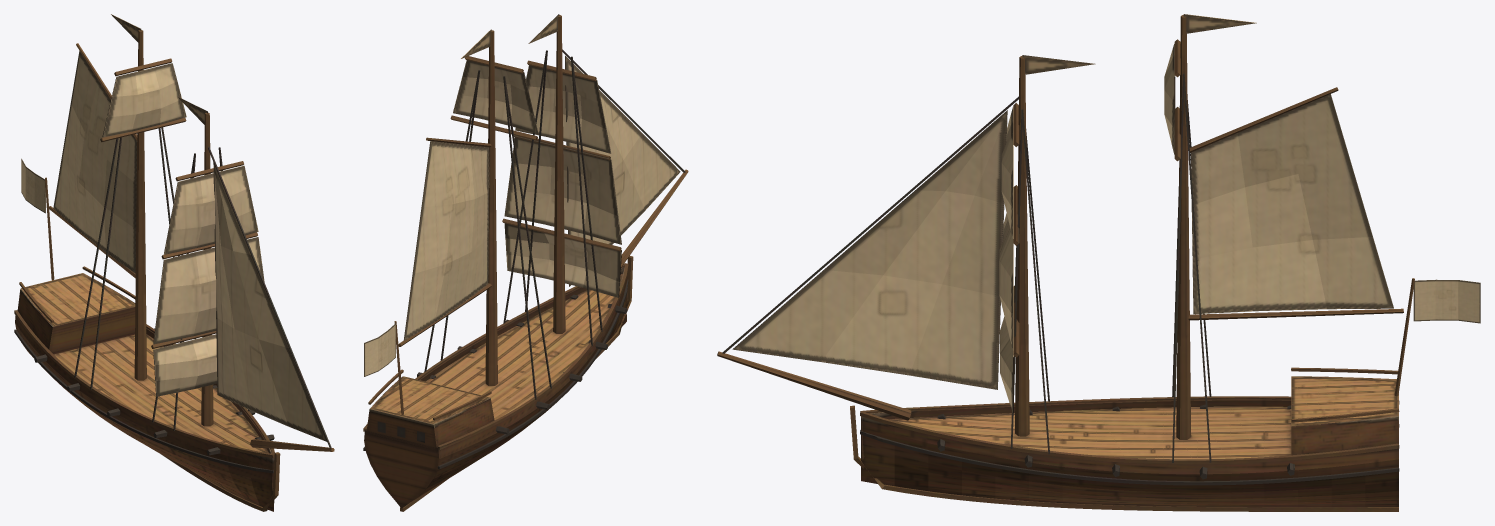
File: Brigantine.fbx
The picture shows the model from 3 angles, left to right: view 1: azimuth 30°, elevation 25°; view 2: azimuth 150°, elevation 25°; view 3: azimuth 270°, elevation 25°; orthographic projection. The views are drawn at different scales.
Parts seen in each view (by area): view 1: Sail_Jib, Sail1_G, Deck, Hull, Sail0_2, Sail0_3, Sail1_2, SternCastle0_Deck, SternCastle0, Sail0_1, Mast1, Rail_S (+8 smaller); view 2: Sail1_G, Deck, Hull, Sail0_2, Sail_Jib, Sail0_1, Sail0_3, Sail1_2, SternCastle0, Mast1, Mast0, SternCastle0_Deck (+15 smaller); view 3: Sail_Jib, Sail1_G, Hull, Deck, SternCastle0_Deck, Mast1, Mast0, Keel, SternCastle0, Rail_P, Ensign, Wale_P (+11 smaller).
Part boxes in pixels (<box>): Sail_Jib: <box>213,162,326,441</box>; Sail1_G: <box>53,51,137,273</box>; Deck: <box>54,334,268,453</box>; Hull: <box>15,315,274,511</box>; Sail0_2: <box>153,237,264,344</box>; Sail0_3: <box>163,165,258,254</box>; Sail1_2: <box>102,63,186,137</box>; SternCastle0_Deck: <box>21,273,135,326</box>; SternCastle0: <box>17,273,135,354</box>; Sail0_1: <box>153,334,217,396</box>; Mast1: <box>134,30,146,380</box>; Rail_S: <box>14,310,274,457</box>; Sail1_G: <box>403,141,489,340</box>; Deck: <box>426,273,622,419</box>; Hull: <box>364,267,628,508</box>; Sail0_2: <box>504,137,621,244</box>; Sail_Jib: <box>565,55,680,286</box>; Sail0_1: <box>504,223,621,297</box>; Sail0_3: <box>515,65,611,153</box>; Sail1_2: <box>453,60,538,133</box>; SternCastle0: <box>366,376,494,453</box>; Mast1: <box>485,30,497,385</box>; Mast0: <box>553,15,565,333</box>; SternCastle0_Deck: <box>370,376,488,423</box>; Sail_Jib: <box>732,110,1007,389</box>; Sail1_G: <box>1191,94,1393,314</box>; Hull: <box>861,399,1398,507</box>; Deck: <box>889,406,1291,459</box>; SternCastle0_Deck: <box>1291,376,1398,426</box>; Mast1: <box>1176,15,1191,439</box>; Mast0: <box>1015,56,1029,436</box>; Keel: <box>850,405,1398,511</box>; SternCastle0: <box>1291,376,1398,455</box>; Rail_P: <box>860,411,1399,464</box>; Ensign: <box>1413,279,1480,323</box>; Wale_P: <box>860,431,1399,485</box>.
Bounding box in the file's own units: 7.34 × 22.43 × 31.23.
1 material, 1 textured.
